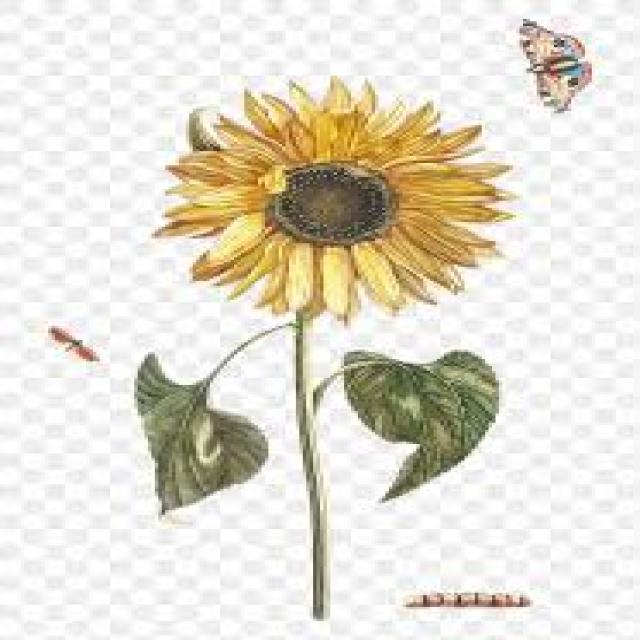sunflower: (148, 73, 516, 324)
